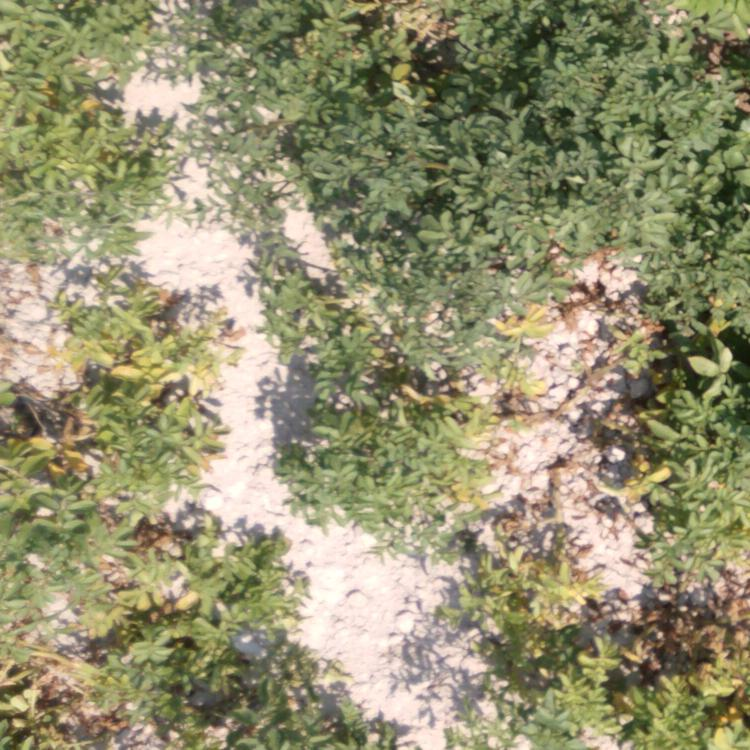healthy: (173, 1, 487, 256), (490, 15, 746, 258)
stressed: (262, 257, 548, 516), (431, 541, 750, 750), (3, 492, 275, 664), (64, 264, 230, 492), (5, 1, 167, 223), (5, 665, 382, 750), (634, 273, 749, 537), (13, 399, 71, 486)
